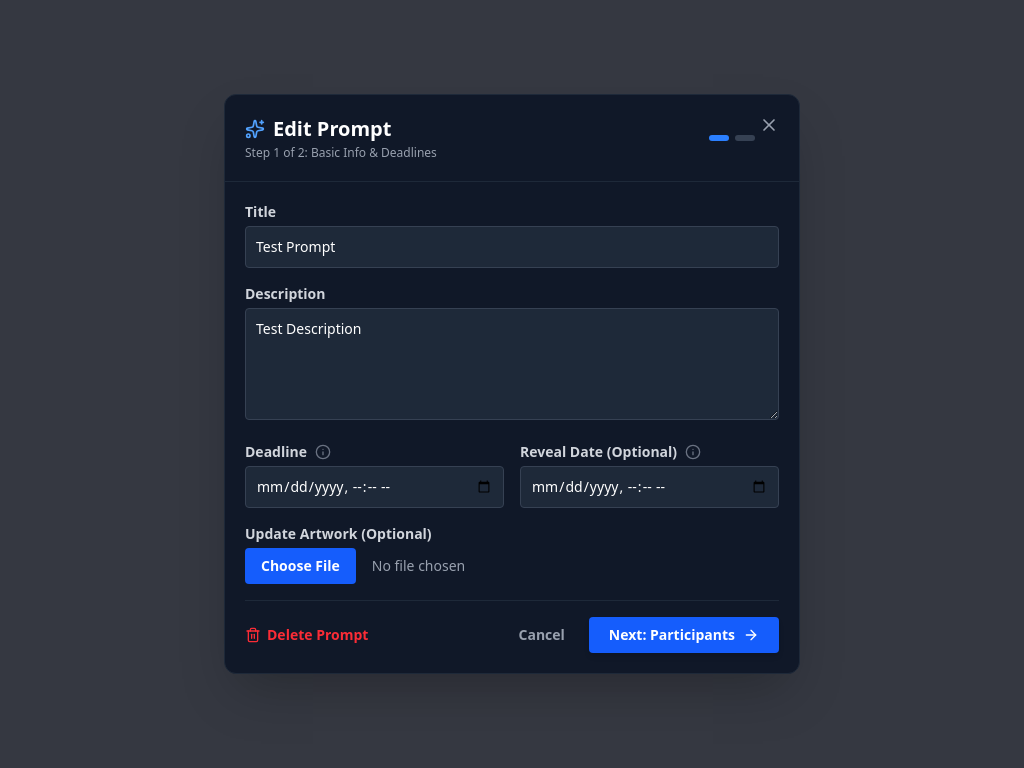
Test case: EditPrompt component › filters imported participants correctly when using "submitted" filter
// Click Next to get to Step 2
Click the button "Next: Participants".
click(684, 635)  # box [589, 617, 779, 653]
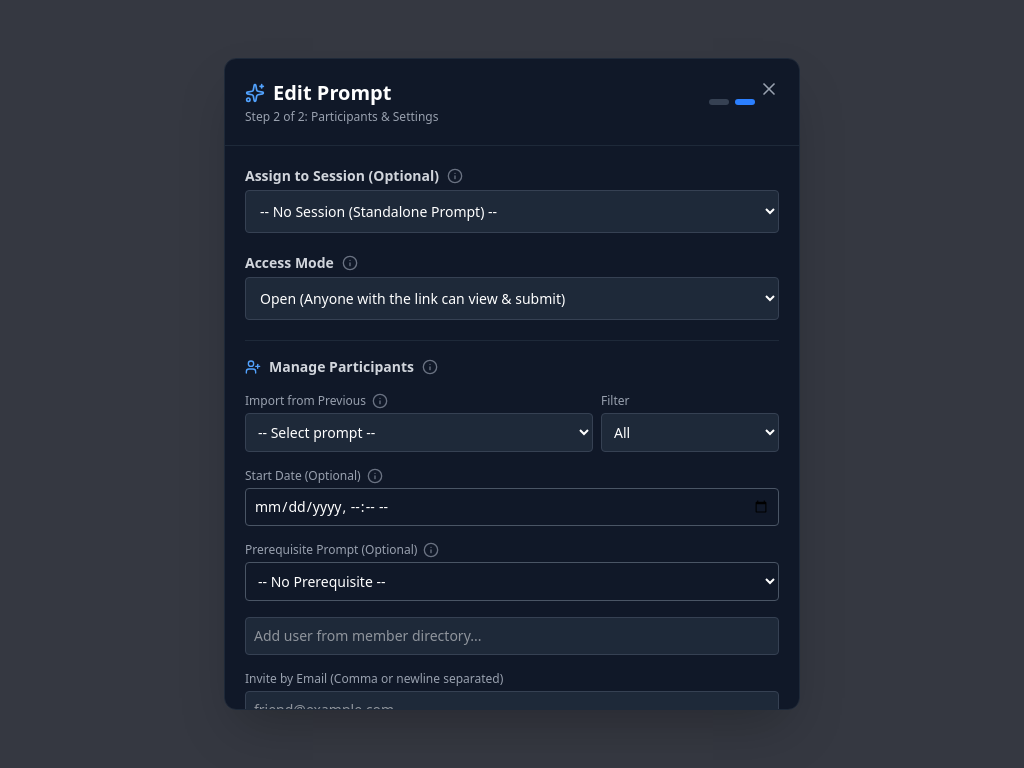
Now the text "Step 2 of 2: Participants & Settings" is shown, box [245, 109, 438, 125]
// Find the import filter select (has "submitted" option)
Select "Submitted" in the dropdown below "Filter" at coordinates (690, 432), box [601, 413, 779, 452]
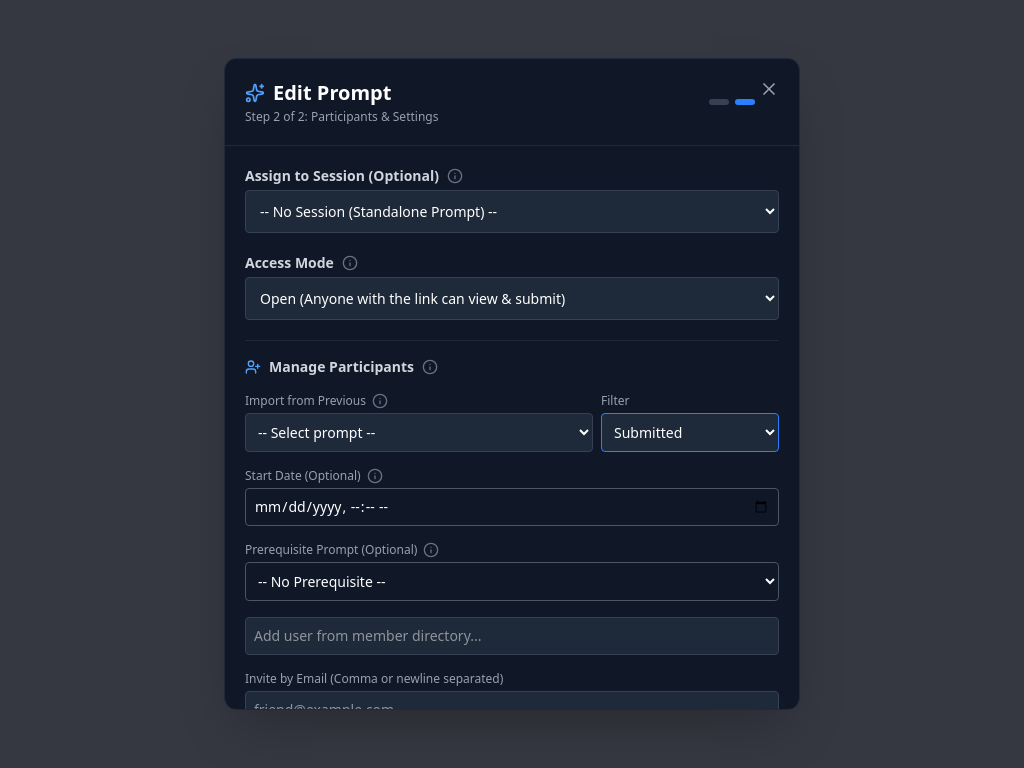
// Find the import prompt select (has "past-prompt-id" option)
Select "Past Prompt" in the dropdown below "Import from Previous" at coordinates (419, 432), box [245, 413, 593, 452]
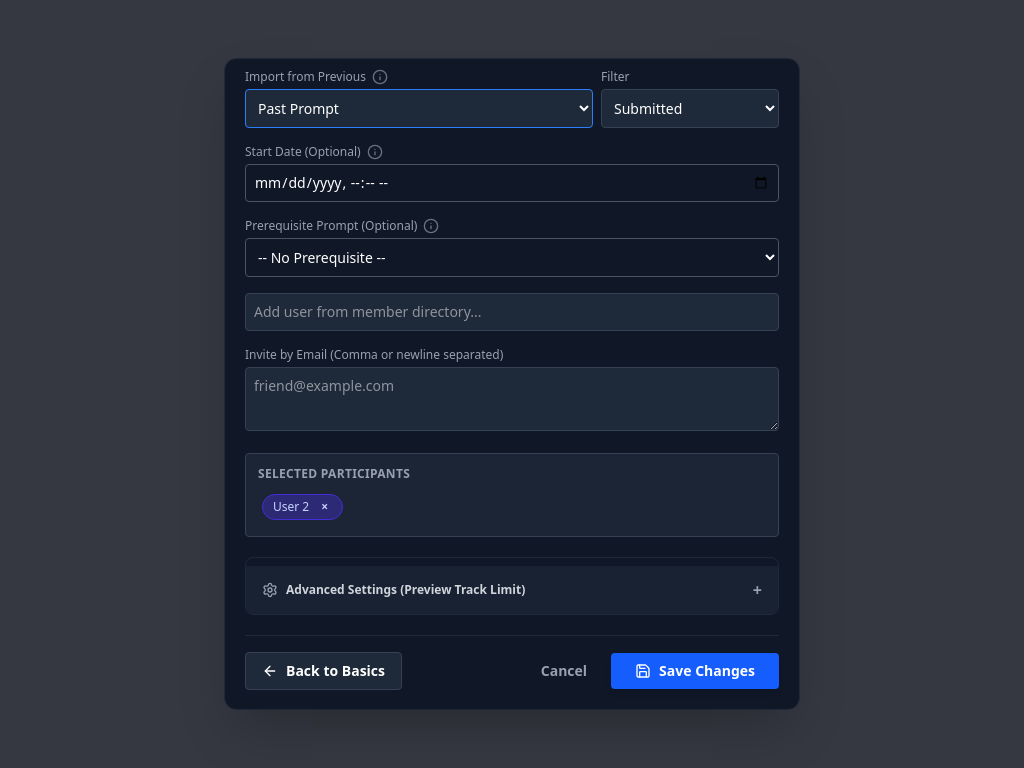
Now the text "User 2" is shown, box [273, 499, 309, 515]
